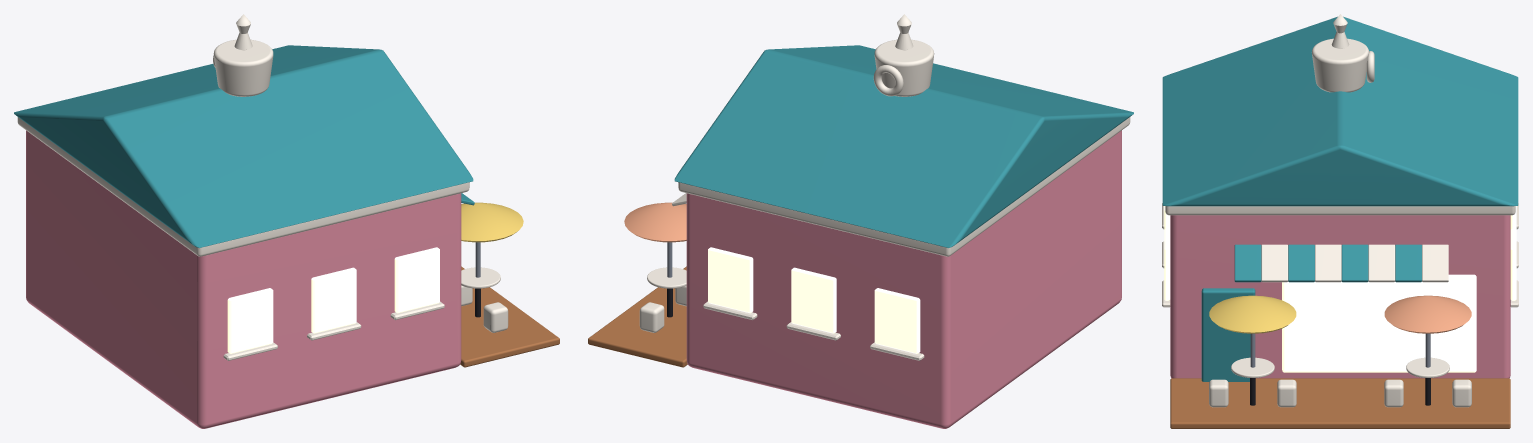
Rendered from cafe.glb.
The picture shows the model from 3 angles, left to right: view 1: azimuth 30°, elevation 25°; view 2: azimuth 150°, elevation 25°; view 3: azimuth 270°, elevation 25°; orthographic projection. The views are drawn at different scales.
Parts seen in each view (by area): view 1: cafe; view 2: cafe; view 3: cafe.
Part boxes in pixels (bbox=[...]): cafe: bbox=[14, 14, 559, 428]; cafe: bbox=[588, 14, 1133, 428]; cafe: bbox=[1162, 14, 1518, 428].
Size of the model in its own units: 8.4 by 7 by 7.34.
1 material, 1 textured.
